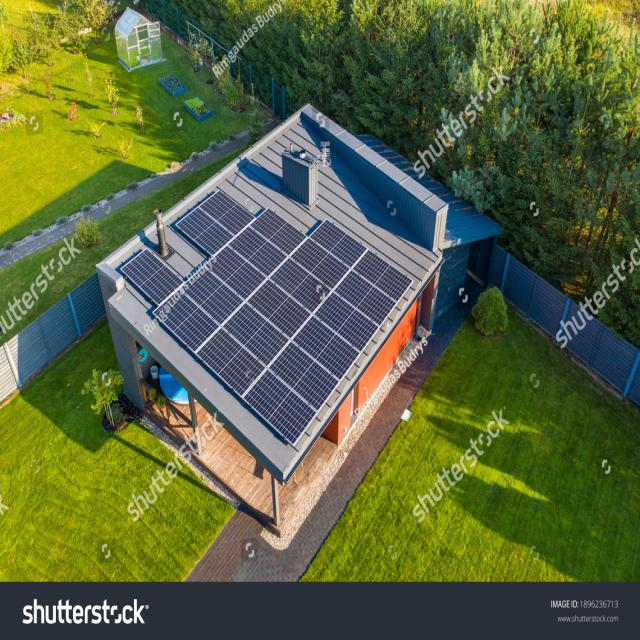Clean: (118, 189, 412, 446)
